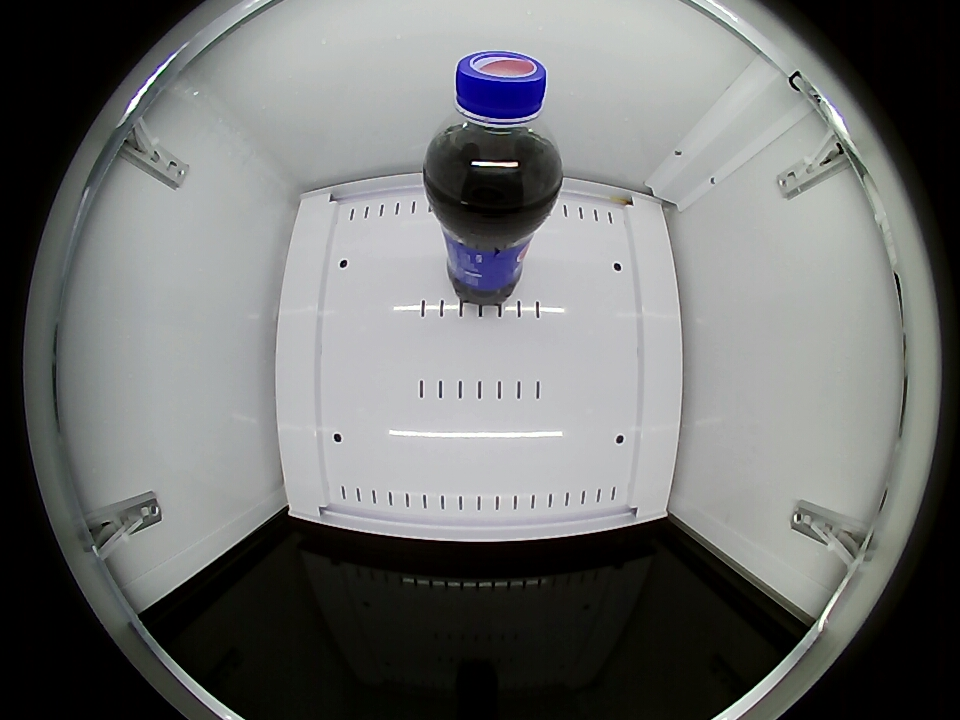baishikele-2: (427, 50, 559, 201)
